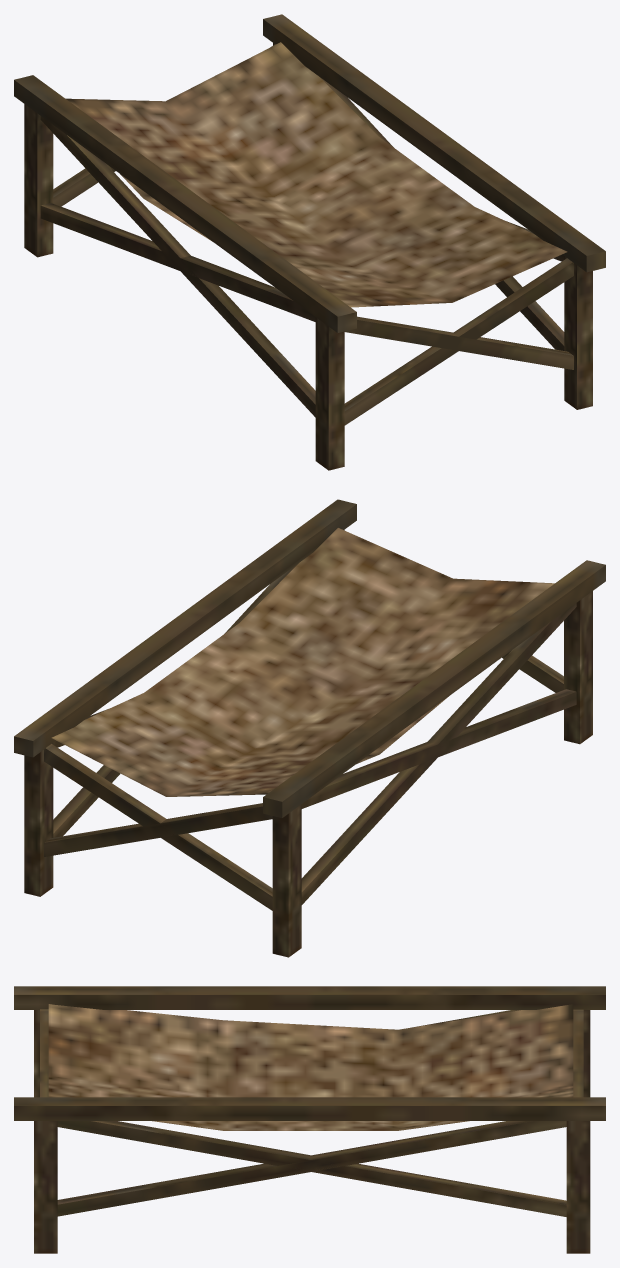
The model's file is general_obj_woodbed.fbx.
3 renders of one model, top to bottom at view 1: azimuth 30°, elevation 25°; view 2: azimuth 150°, elevation 25°; view 3: azimuth 270°, elevation 25°, orthographic. The views are drawn at different scales.
Visible parts, largest first — view 1: Object25; view 2: Object25; view 3: Object25.
Boxes of the visible parts, x1,y1,x2,y2 form: Object25: (14, 14, 605, 470); Object25: (14, 499, 605, 957); Object25: (14, 986, 605, 1253).
Size of the model in its own units: 1.22 by 0.7064 by 2.55.
